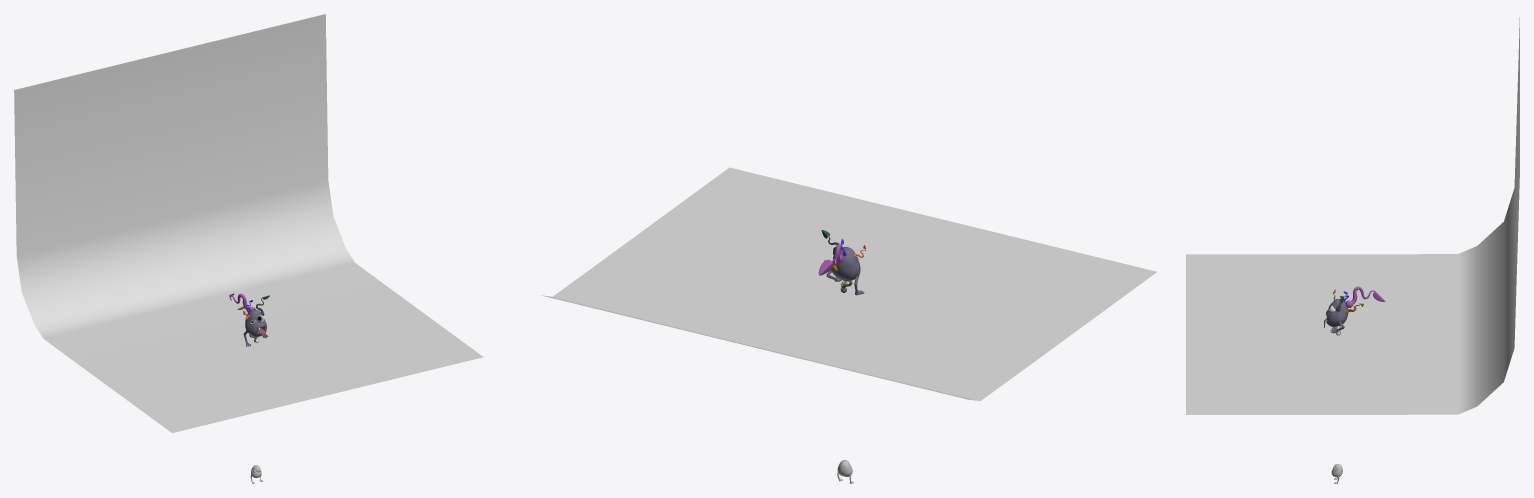
File: Bean_Monster_Instancing_V3.glb
3 renders of one model, left to right at view 1: azimuth 30°, elevation 25°; view 2: azimuth 150°, elevation 25°; view 3: azimuth 270°, elevation 25°, orthographic. The views are drawn at different scales.
Visible parts, largest first — view 1: Plane, Bean_Monster_Geo; view 2: Plane, Instance Child on Parent; view 3: Plane, Instance Child on Parent, Bean_Monster_Geo.
Part boxes in pixels (x1,y1,x2,y2): Plane: [14, 14, 483, 432]; Bean_Monster_Geo: [243, 309, 268, 344]; Plane: [541, 167, 1156, 400]; Instance Child on Parent: [818, 230, 866, 293]; Plane: [1186, 17, 1519, 414]; Instance Child on Parent: [1324, 286, 1385, 332]; Bean_Monster_Geo: [1324, 299, 1348, 333].
Bounding box in the file's own units: 501 × 563 × 440.
